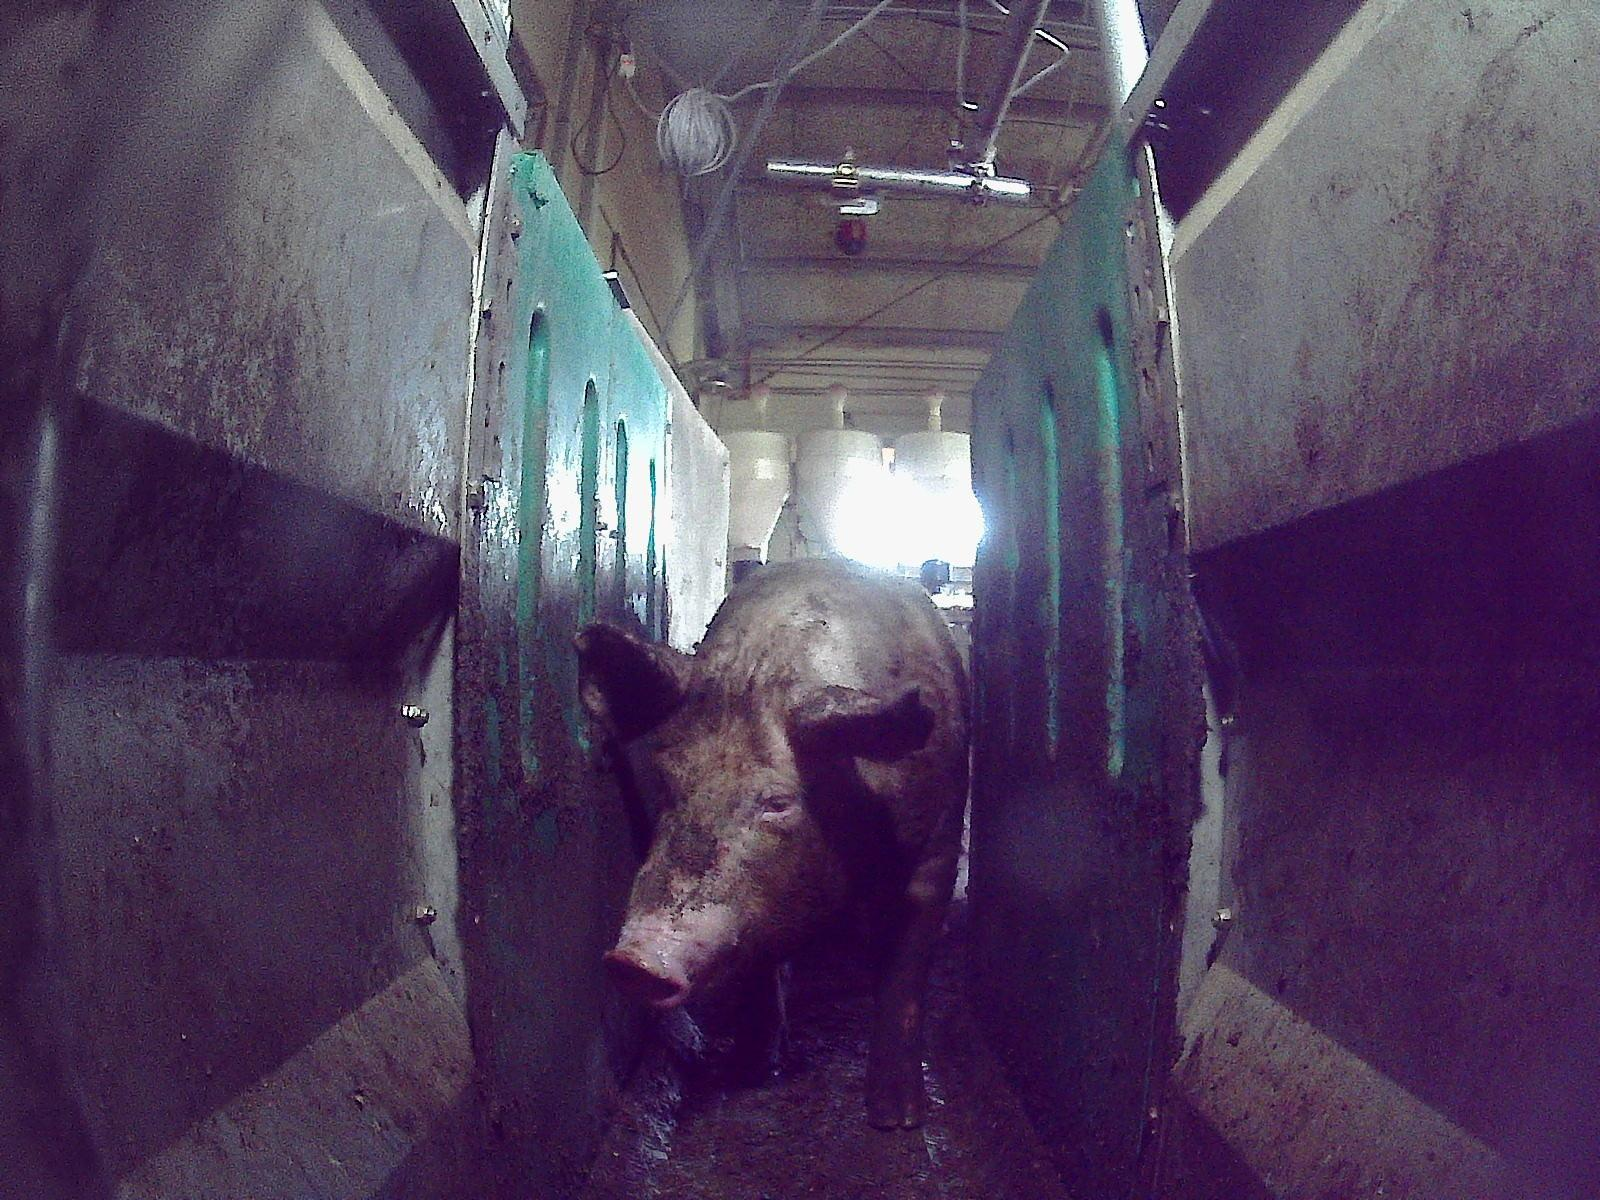Face: (597, 670, 852, 1006)
